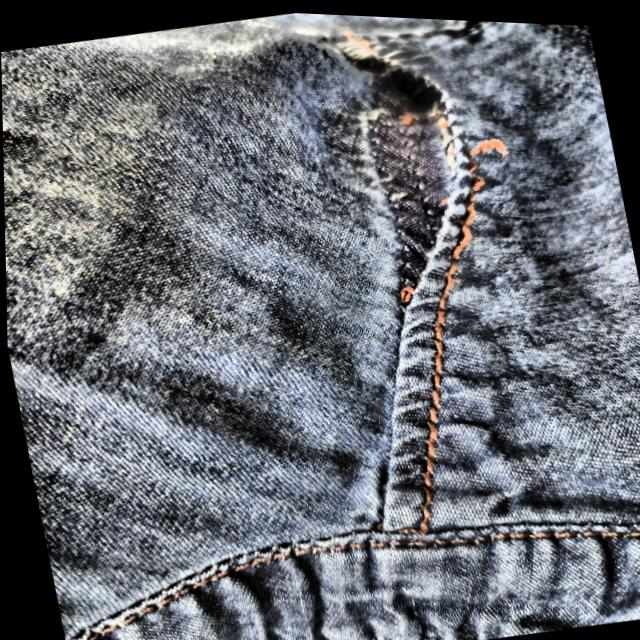seam: (310, 31, 502, 308)
